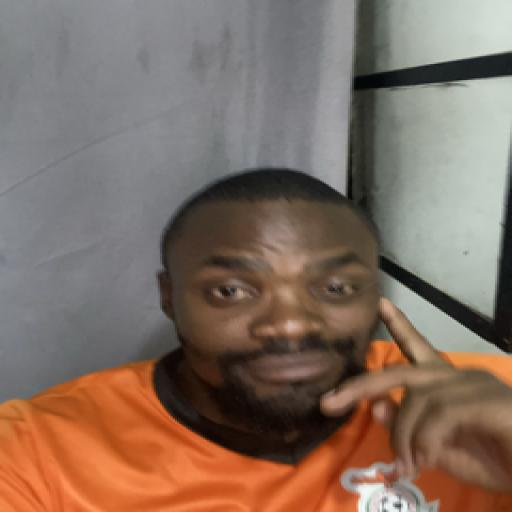JEANLUC: (160, 162, 384, 435)
